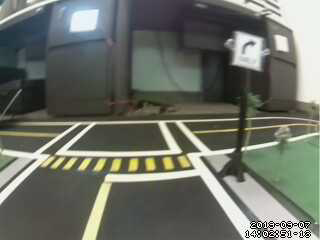Right_only_sign: (229, 29, 265, 73)
